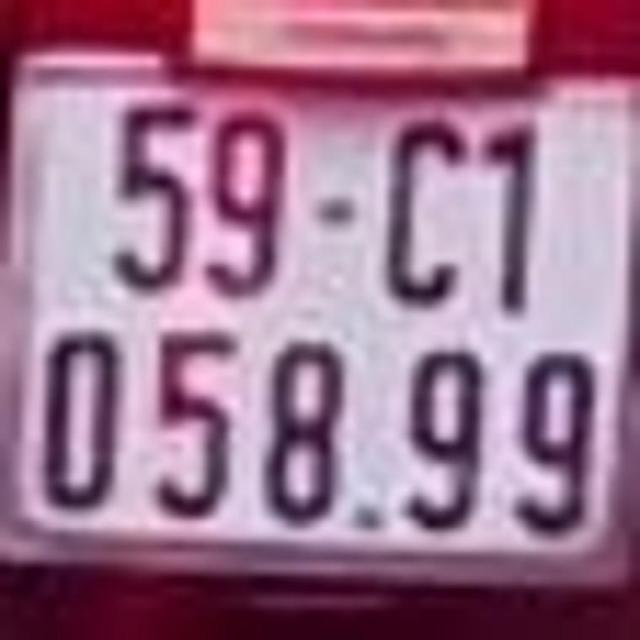0: (39, 322, 121, 511)
1: (480, 117, 538, 316)
5: (112, 97, 195, 293), (154, 323, 236, 519)
8: (266, 336, 342, 525)
9: (515, 346, 594, 536), (406, 344, 482, 531), (208, 109, 282, 299)
C: (383, 114, 468, 307)
